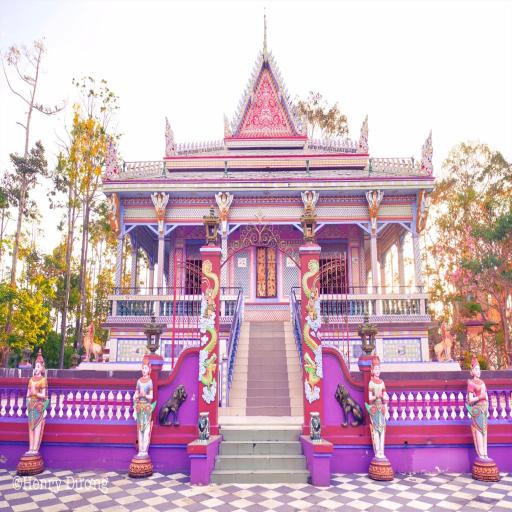hoa: (240, 91, 246, 105), (252, 63, 258, 77), (249, 69, 255, 82), (238, 98, 244, 110), (246, 76, 252, 88), (266, 47, 272, 59), (229, 119, 235, 130), (290, 103, 296, 114), (254, 58, 259, 71), (281, 80, 286, 93), (236, 103, 241, 114), (274, 63, 279, 74), (278, 76, 284, 85), (256, 51, 260, 64), (276, 69, 281, 79), (288, 98, 293, 108), (243, 87, 247, 99), (246, 80, 250, 92), (231, 114, 236, 123), (270, 52, 274, 63), (272, 59, 276, 70), (234, 111, 239, 119), (284, 87, 288, 97), (286, 92, 290, 102), (292, 106, 296, 116), (259, 46, 262, 57)
lua: (258, 7, 273, 71)
ran: (98, 131, 125, 185), (156, 114, 180, 158), (353, 111, 372, 156), (296, 108, 310, 140), (220, 112, 232, 142)
than: (461, 348, 502, 491), (361, 350, 397, 480), (20, 343, 52, 479), (126, 344, 157, 484), (363, 184, 388, 238), (209, 183, 231, 244), (150, 186, 171, 243), (299, 188, 319, 241), (413, 188, 432, 241), (102, 189, 122, 238), (304, 286, 320, 325), (202, 286, 218, 318)
